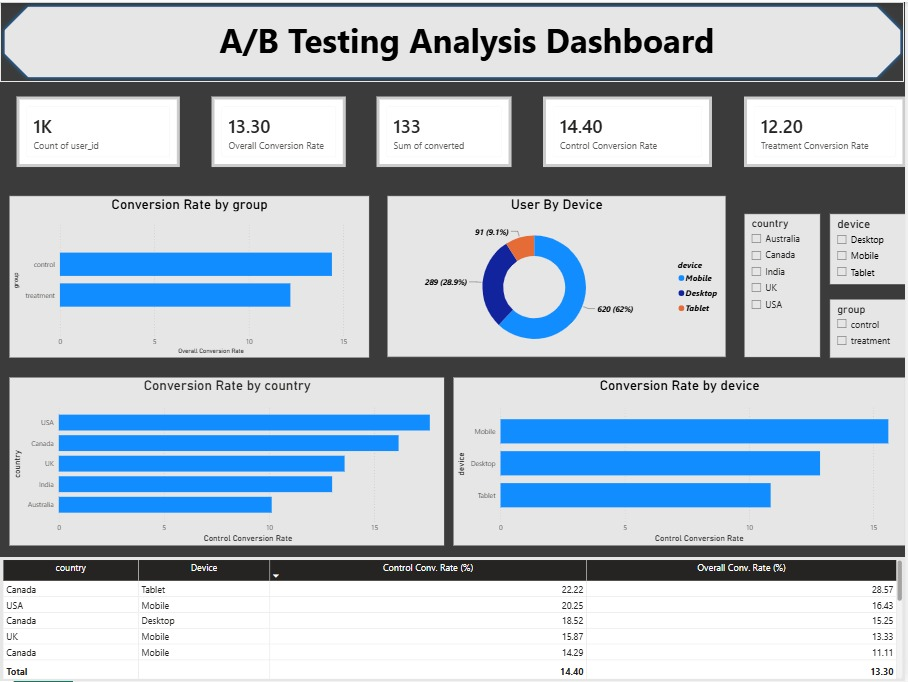

Layout of this report page (visuals, bound fields, positions):
{"tool":"powerbi","page":{"name":"Page 1","canvas":[1600,1200],"ordinal":0},"visuals":[{"type":"cardVisual","fields":{"Data":["Sum(Sheet.converted)"]},"box":[666.3,167.3,238.9,124.4],"z":0},{"type":"cardVisual","fields":{"Data":["Sheet.Overall Conversion Rate"]},"box":[373.8,167.3,237.3,124.4],"z":1000},{"type":"cardVisual","fields":{"Data":["Sheet.Control Conversion Rate"]},"box":[960.4,167.3,298.7,124.4],"z":2000},{"type":"cardVisual","fields":{"Data":["Sheet.Treatment Conversion Rate"]},"box":[1314.3,167.3,285.4,124.4],"z":3000},{"type":"clusteredBarChart","title":"Conversion Rate by group","fields":{"Y":["Sheet.Overall Conversion Rate"],"Category":["Sheet.group"]},"box":[14.9,341.8,637.1,287],"z":4000},{"type":"donutChart","title":"User By Device","fields":{"Category":["Sheet.device"],"Y":["CountNonNull(Sheet.user_id)"]},"box":[683.9,342.5,599.1,286.3],"z":5000},{"type":"cardVisual","fields":{"Data":["CountNonNull(Sheet.user_id)"]},"box":[29.9,167.3,288.7,124.4],"z":6000},{"type":"clusteredBarChart","title":"Conversion Rate by country","fields":{"Category":["Sheet.country"],"Y":["Sheet.Control Conversion Rate"]},"box":[14.9,663.7,769.9,298.7],"z":7000},{"type":"clusteredBarChart","title":"Conversion Rate by device","fields":{"Category":["Sheet.device"],"Y":["Sheet.Control Conversion Rate"]},"box":[799.7,663.7,799.7,298.7],"z":8000},{"type":"tableEx","fields":{"Values":["Sheet.country","Sheet.device","Sheet.Control Conversion Rate","Sheet.Overall Conversion Rate"]},"box":[0,980.6,1599.4,220],"z":9000},{"type":"slicer","fields":{"Values":["Sheet.group"]},"box":[1465.1,524.3,134.4,104.5],"z":10000},{"type":"slicer","fields":{"Values":["Sheet.device"]},"box":[1466,373.8,134.4,126.3],"z":11000},{"type":"slicer","fields":{"Values":["Sheet.country"]},"box":[1314.9,374.3,135.2,254.5],"z":12000},{"type":"shape","box":[0,0,1599.4,141],"z":13000},{"type":"textbox","box":[217.4,21.6,1216.2,91.3],"z":14000}]}

Visuals, with their boxes in screenshot pixels (x1, y1, x2, y2), scaled from the page's 1600x1200 canvas onto the 908x682 screenshot:
cardVisual - Sum(Sheet.converted): [left=378, top=95, right=514, bottom=166]
cardVisual - Sheet.Overall Conversion Rate: [left=212, top=95, right=347, bottom=166]
cardVisual - Sheet.Control Conversion Rate: [left=545, top=95, right=715, bottom=166]
cardVisual - Sheet.Treatment Conversion Rate: [left=746, top=95, right=907, bottom=166]
"Conversion Rate by group" clusteredBarChart: [left=8, top=194, right=370, bottom=357]
"User By Device" donutChart: [left=388, top=195, right=728, bottom=357]
cardVisual - CountNonNull(Sheet.user_id): [left=17, top=95, right=181, bottom=166]
"Conversion Rate by country" clusteredBarChart: [left=8, top=377, right=445, bottom=547]
"Conversion Rate by device" clusteredBarChart: [left=454, top=377, right=907, bottom=547]
tableEx - Sheet.country x Sheet.device: [left=0, top=557, right=907, bottom=681]
slicer - Sheet.group: [left=831, top=298, right=907, bottom=357]
slicer - Sheet.device: [left=832, top=212, right=907, bottom=284]
slicer - Sheet.country: [left=746, top=213, right=823, bottom=357]
shape: [left=0, top=0, right=907, bottom=80]
textbox: [left=123, top=12, right=814, bottom=64]
